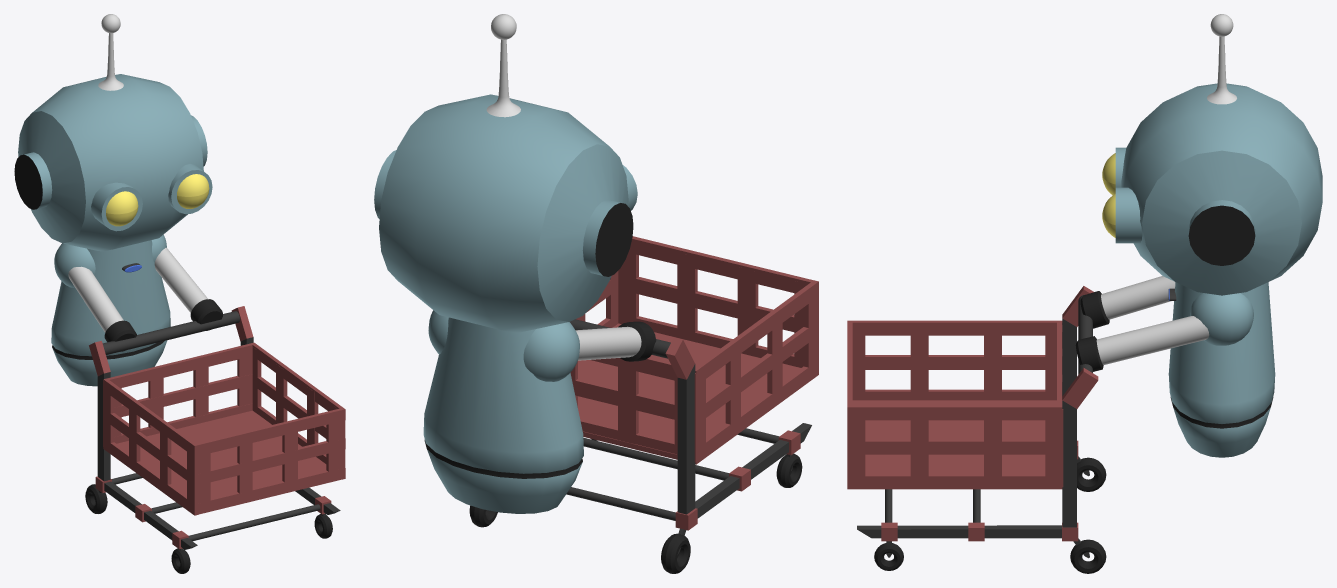
File: BlueBotCart.fbx
3 renders of one model, left to right at view 1: azimuth 30°, elevation 25°; view 2: azimuth 150°, elevation 25°; view 3: azimuth 270°, elevation 25°, orthographic. The views are drawn at different scales.
Visible parts, largest first — view 1: pCylinder1, pCylinder3, pCube8, pCube5, pCylinder4, pCylinder10, pCylinder2, pCube11, pCube13, pCube18, pCube12, pCylinder12 (+29 smaller); view 2: pCylinder1, pCylinder3, pCube8, pCube5, pCylinder2, pSphere4, pCube11, pCylinder4, pCube6, pCube9, pCube15, pCube18 (+18 smaller); view 3: pCylinder1, pCylinder3, pCube8, pCube1, pCylinder10, pCylinder2, pCube7, pCube10, pCube17, pCube6, pCube15, pCylinder4 (+16 smaller).
Boxes of the visible parts, x1,y1,x2,y2 form: pCylinder1: (18, 74, 203, 251); pCylinder3: (51, 240, 170, 386); pCube8: (116, 410, 326, 498); pCube5: (89, 341, 197, 549); pCylinder4: (68, 266, 136, 351); pCylinder10: (154, 247, 222, 330); pCylinder2: (14, 115, 207, 209); pCube11: (196, 408, 341, 455); pCube13: (105, 343, 252, 388); pCube18: (198, 439, 341, 485); pCube12: (198, 468, 341, 514); pCylinder12: (102, 311, 239, 354); pCylinder1: (379, 94, 628, 332); pCylinder3: (423, 317, 583, 513); pCube8: (578, 323, 800, 459); pCube5: (665, 337, 811, 518); pCylinder2: (374, 150, 633, 276); pSphere4: (523, 322, 579, 381); pCube11: (631, 236, 816, 292); pCylinder4: (575, 321, 656, 361); pCube6: (695, 281, 818, 384); pCube9: (695, 360, 818, 464); pCube15: (697, 321, 818, 424); pCube18: (636, 277, 794, 331); pCylinder1: (1121, 83, 1322, 295); pCylinder3: (1168, 282, 1275, 457); pCube8: (852, 400, 1056, 473); pCube1: (857, 368, 1098, 538); pCylinder10: (1075, 316, 1209, 371); pCylinder2: (1188, 200, 1255, 265); pCube7: (847, 405, 1062, 420); pCube10: (847, 474, 1062, 489); pCube17: (847, 439, 1062, 454); pCube6: (847, 320, 1062, 335); pCube15: (852, 355, 1056, 369); pCylinder4: (1080, 276, 1175, 328).
Size of the model in its own units: 2.23 by 5.67 by 4.72.
